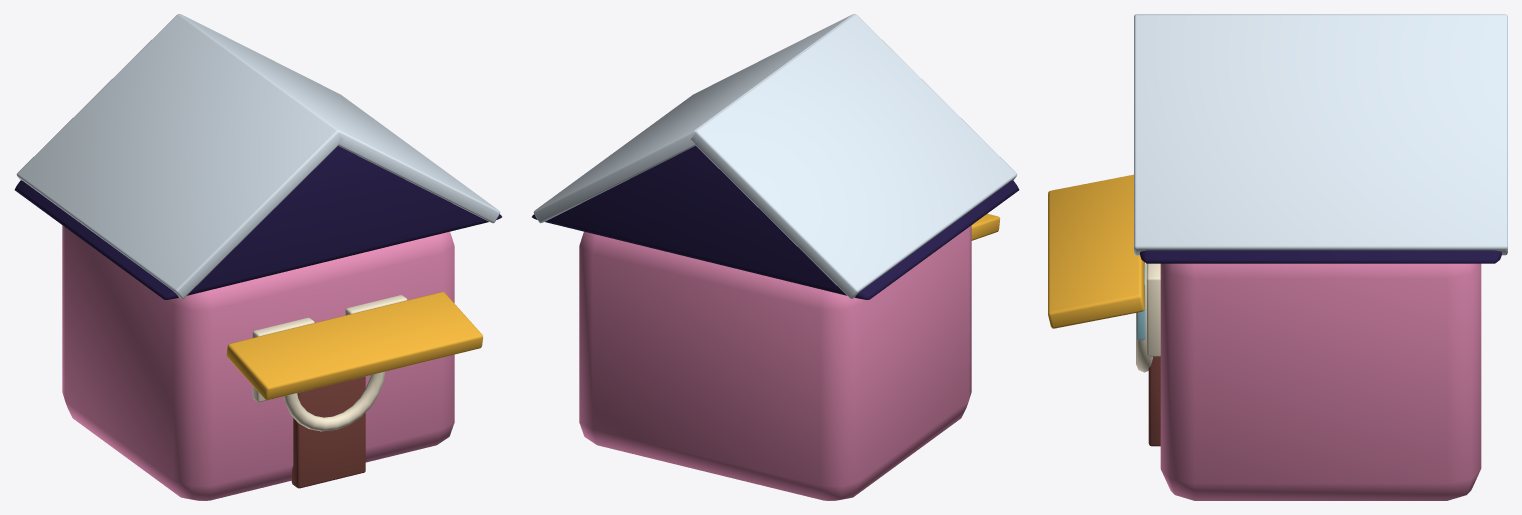
File: r086_development_northern_kingdom_additions_northern_06.glb
3 renders of one model, left to right at view 1: azimuth 30°, elevation 25°; view 2: azimuth 150°, elevation 25°; view 3: azimuth 270°, elevation 25°, orthographic. The views are drawn at different scales.
Visible parts, largest first — view 1: r086_development_northern_kingdom_additions_northern_06.001; view 2: r086_development_northern_kingdom_additions_northern_06.001; view 3: r086_development_northern_kingdom_additions_northern_06.001.
Boxes of the visible parts, x1,y1,x2,y2 form: r086_development_northern_kingdom_additions_northern_06.001: (14, 14, 501, 500); r086_development_northern_kingdom_additions_northern_06.001: (532, 14, 1019, 500); r086_development_northern_kingdom_additions_northern_06.001: (1048, 14, 1507, 500).
Bounding box in the file's own units: 4.26 × 4.34 × 4.3.
